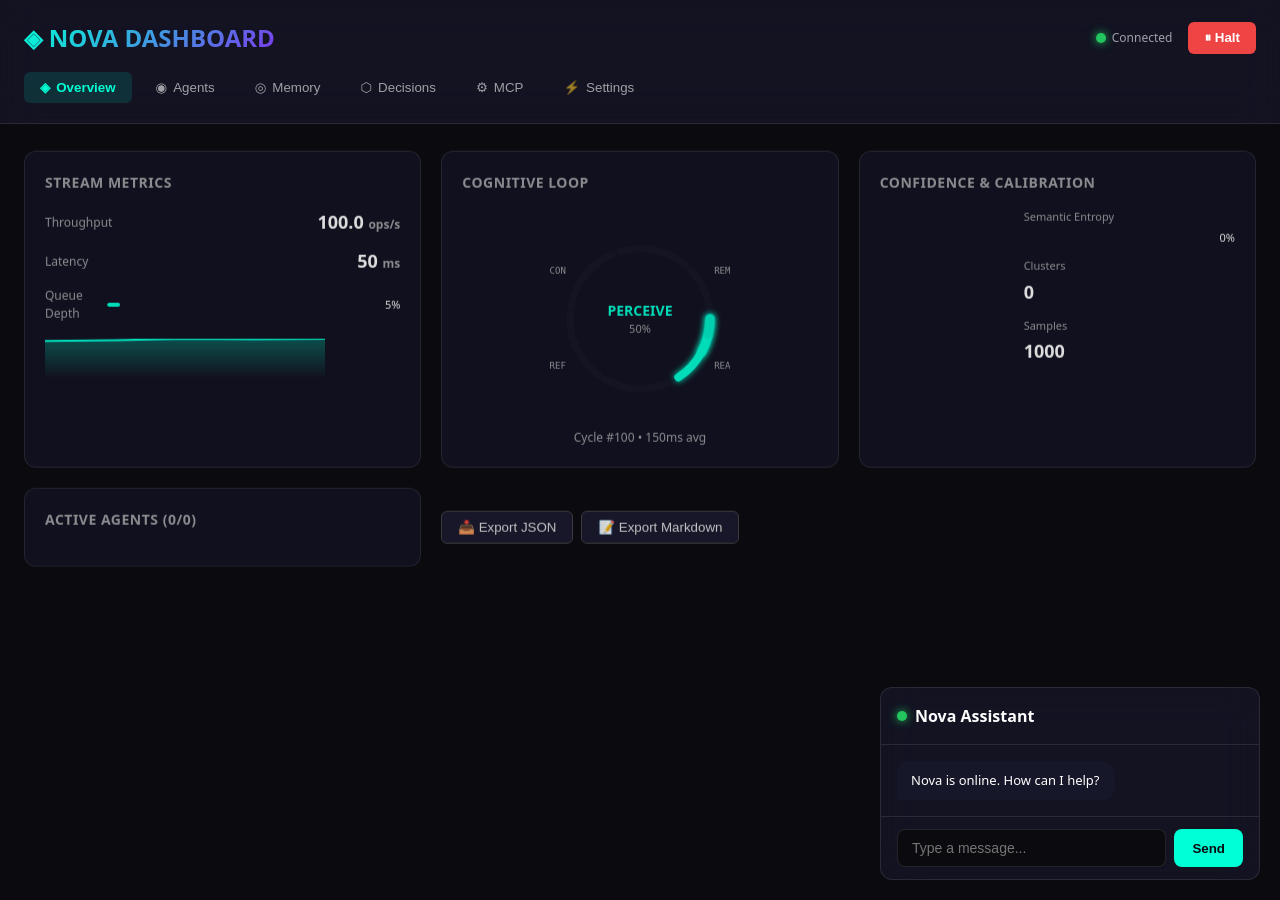
Scenario: NovaDashboard Integration › toggles halt state when clicked
Step 1. Click the button "⏸ Halt" → (1222, 38), box [1188,22,1256,54]
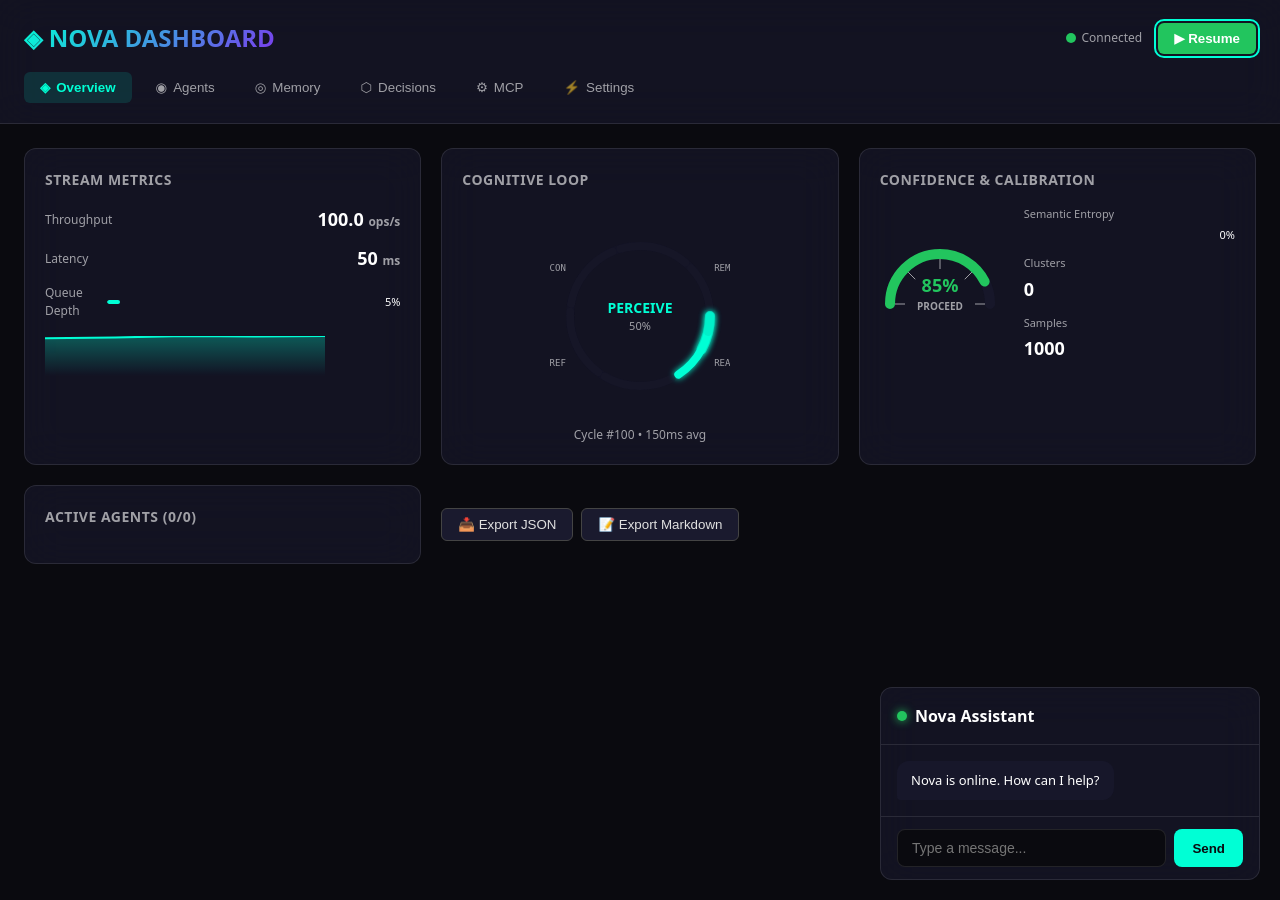
expect the button "▶ Resume" is shown: met, box [1158,22,1256,54]
